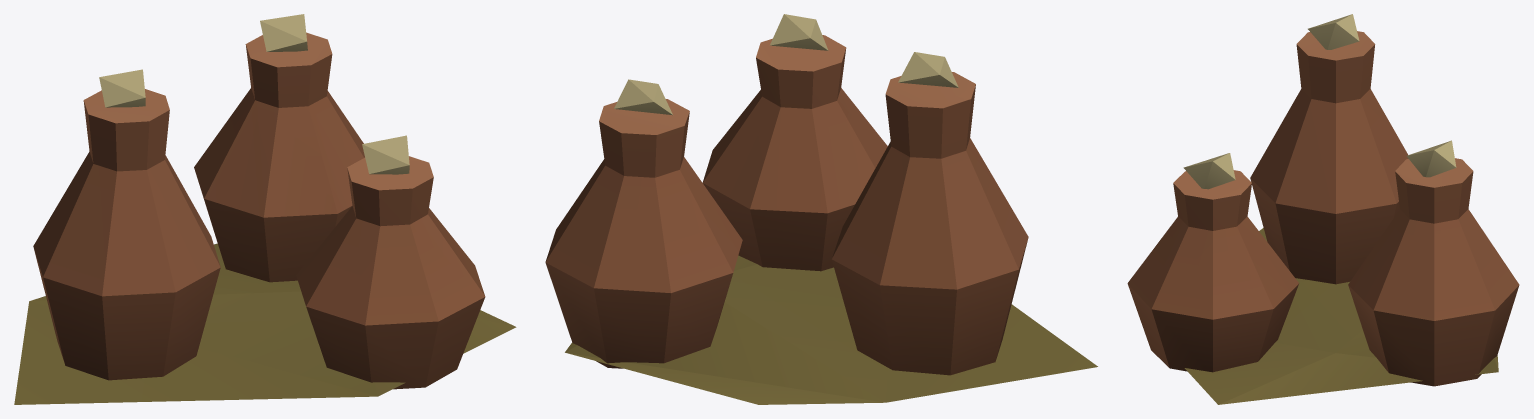
The model's file is oilflasks.glb.
3 renders of one model, left to right at view 1: azimuth 30°, elevation 25°; view 2: azimuth 150°, elevation 25°; view 3: azimuth 270°, elevation 25°, orthographic. The views are drawn at different scales.
Visible parts, largest first — view 1: base; view 2: base; view 3: base.
Boxes of the visible parts, left/top/right/bottom form: base: left=14, top=14, right=516, bottom=404; base: left=545, top=14, right=1097, bottom=404; base: left=1127, top=14, right=1519, bottom=404.
Bounding box in the file's own units: 0.19 × 0.1137 × 0.1594.
